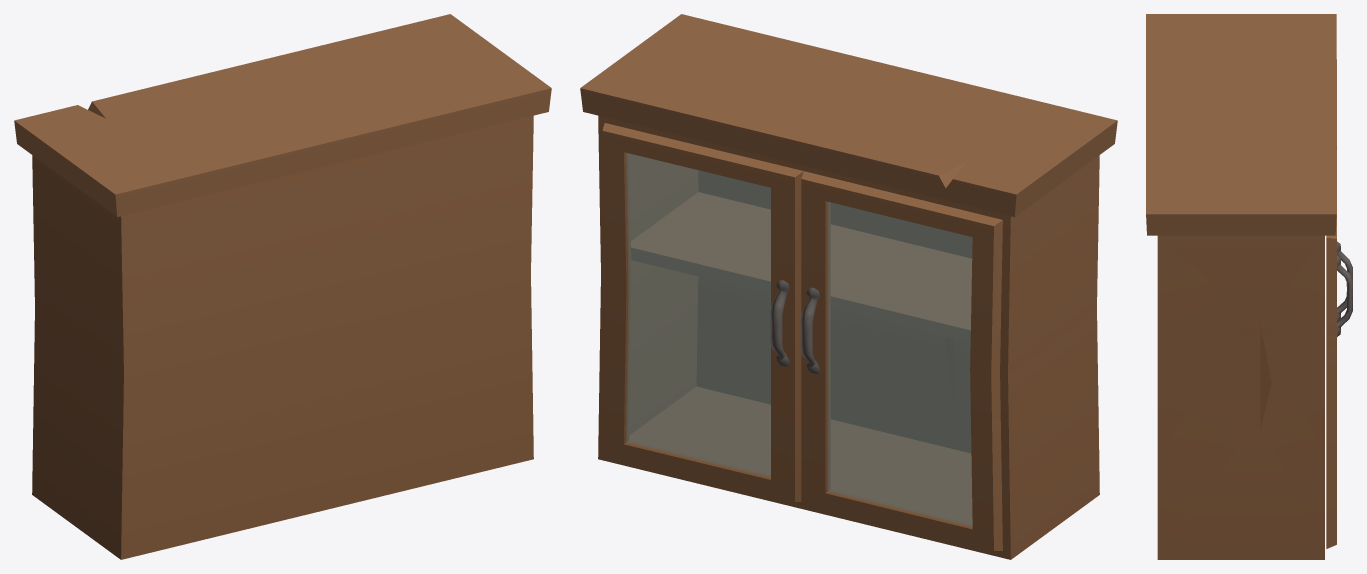
File: CabinetGlassDoors.fbx
The picture shows the model from 3 angles, left to right: view 1: azimuth 30°, elevation 25°; view 2: azimuth 150°, elevation 25°; view 3: azimuth 270°, elevation 25°; orthographic projection. The views are drawn at different scales.
Visible parts, largest first — view 1: CabinetGlassDoors; view 2: CabinetGlassDoors, CabinetGlassDoors_Door2, CabinetGlassDoors_Door1; view 3: CabinetGlassDoors, CabinetGlassDoors_Door1, CabinetGlassDoors_Door2.
Boxes of the visible parts, bbox=[...] form: CabinetGlassDoors: bbox=[14, 14, 551, 559]; CabinetGlassDoors: bbox=[580, 14, 1117, 559]; CabinetGlassDoors_Door2: bbox=[800, 171, 1002, 550]; CabinetGlassDoors_Door1: bbox=[602, 123, 803, 501]; CabinetGlassDoors: bbox=[1146, 14, 1336, 559]; CabinetGlassDoors_Door1: bbox=[1326, 150, 1352, 548]; CabinetGlassDoors_Door2: bbox=[1336, 59, 1352, 321].
Size of the model in its own units: 79.29 by 64.72 by 34.59.
